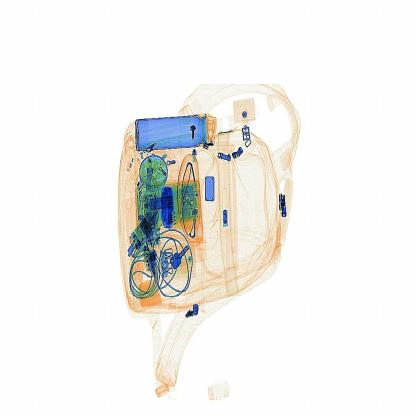scissors: (159, 182, 183, 238)
